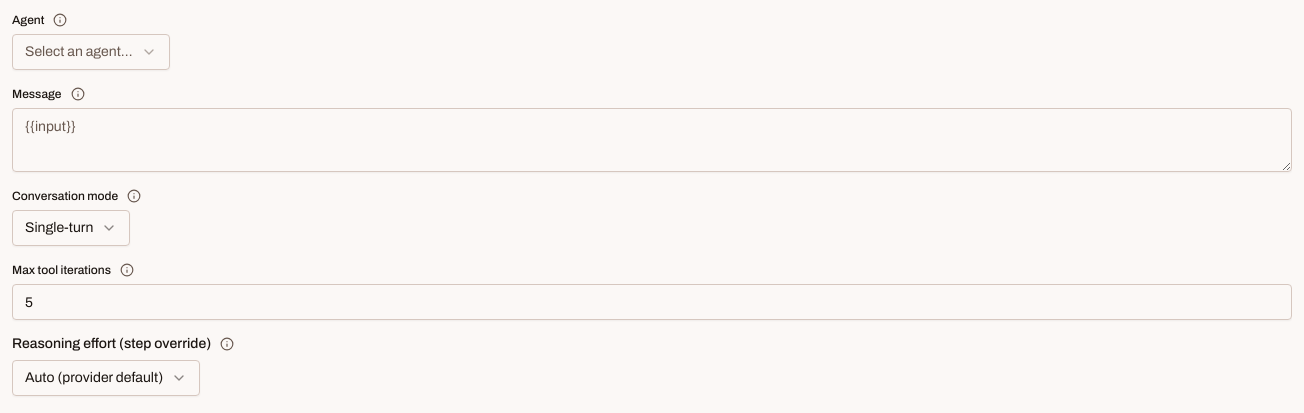
Test: AgentCallEditor › renders agent names including description suffix
// open the agent select to reveal options
Step 1. Click the dropdown labelled "Select an agent…" → click(91, 52), box [12,34,170,70]
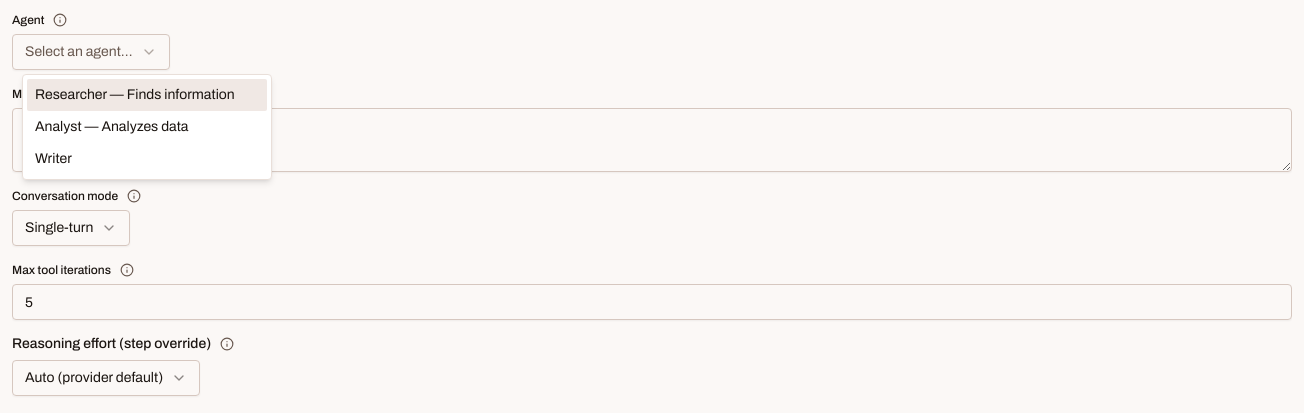
Now the option "Researcher — Finds information" is shown, box [27,79,267,111]
Now the option "Writer" is shown, box [35,151,72,166]
